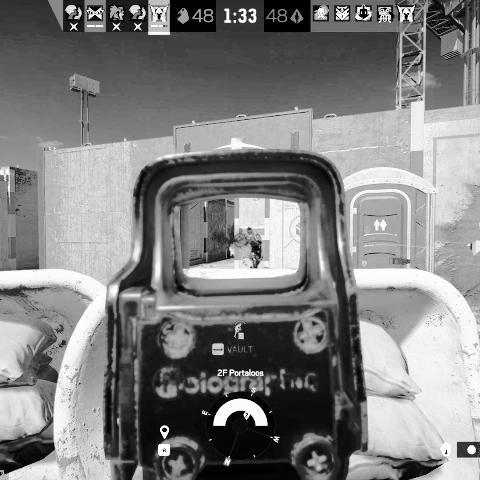Character: (239, 226, 266, 270)
Head: (246, 226, 254, 236)
